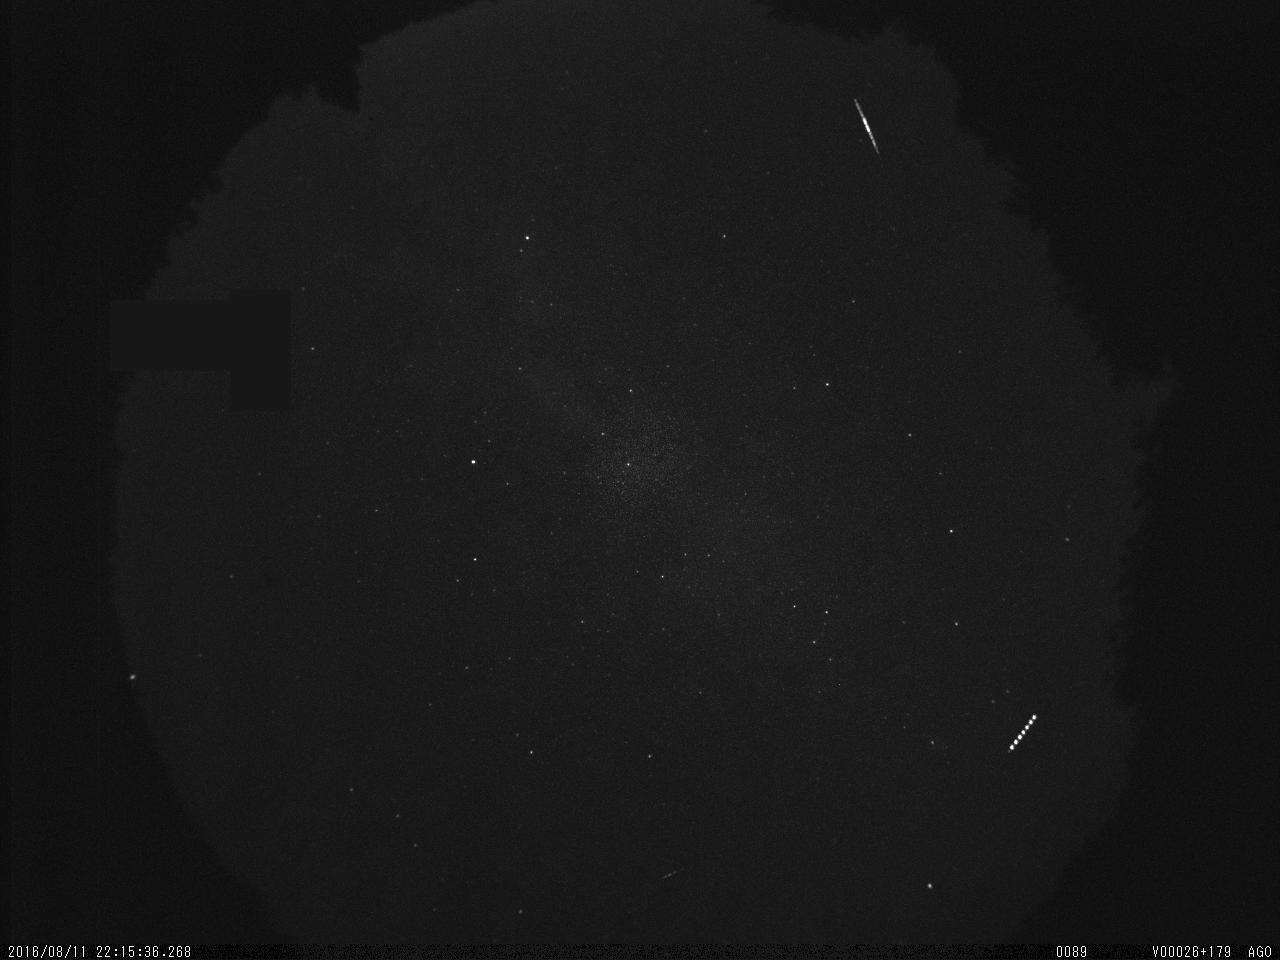meteor: (847, 92, 891, 163)
satelite: (1001, 710, 1040, 756)
